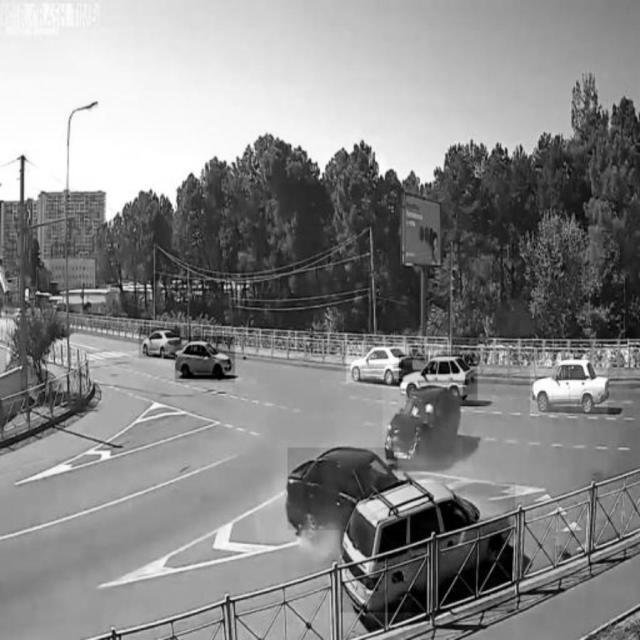vehicle: (341, 482, 516, 613), (288, 447, 399, 529), (383, 383, 463, 466), (531, 360, 608, 416), (399, 355, 477, 400), (175, 336, 235, 382), (346, 346, 412, 383), (139, 327, 180, 359)
